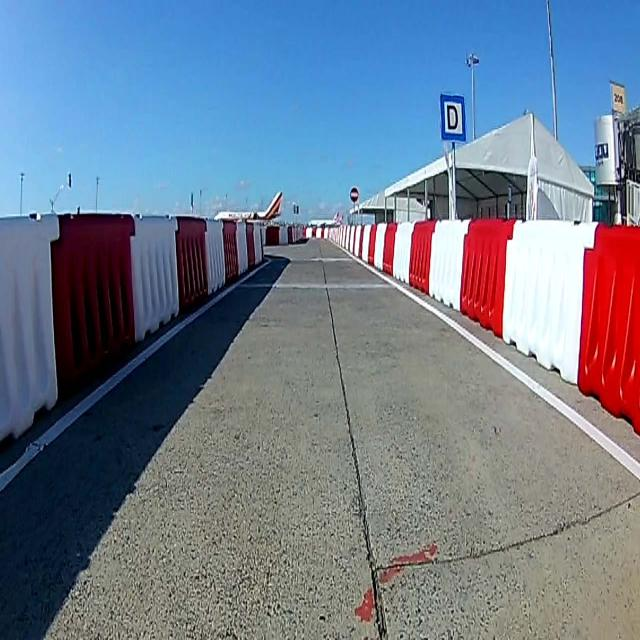durak: (439, 93, 466, 143)
girisyok: (348, 185, 359, 203)
